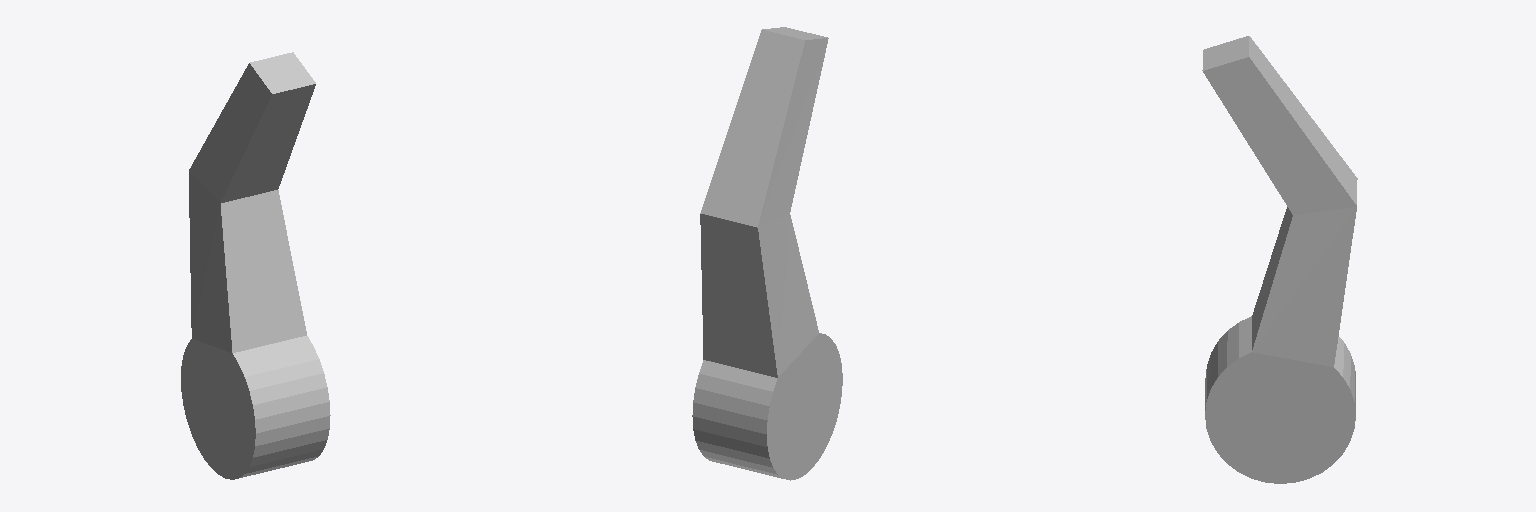
The model's file is Claw2.obj.
3 views of the same model, side by side, from view 1: azimuth 30°, elevation 25°; view 2: azimuth 150°, elevation 25°; view 3: azimuth 270°, elevation 25° (orthographic).
Parts seen in each view (by area): view 1: Claw2_Cylinder.015; view 2: Claw2_Cylinder.015; view 3: Claw2_Cylinder.015.
Part boxes in pixels (left/top/right/bottom): Claw2_Cylinder.015: left=181, top=52, right=330, bottom=479; Claw2_Cylinder.015: left=692, top=27, right=842, bottom=480; Claw2_Cylinder.015: left=1202, top=36, right=1357, bottom=483.
Size of the model in its own units: 0.3792 by 2.03 by 0.6779.